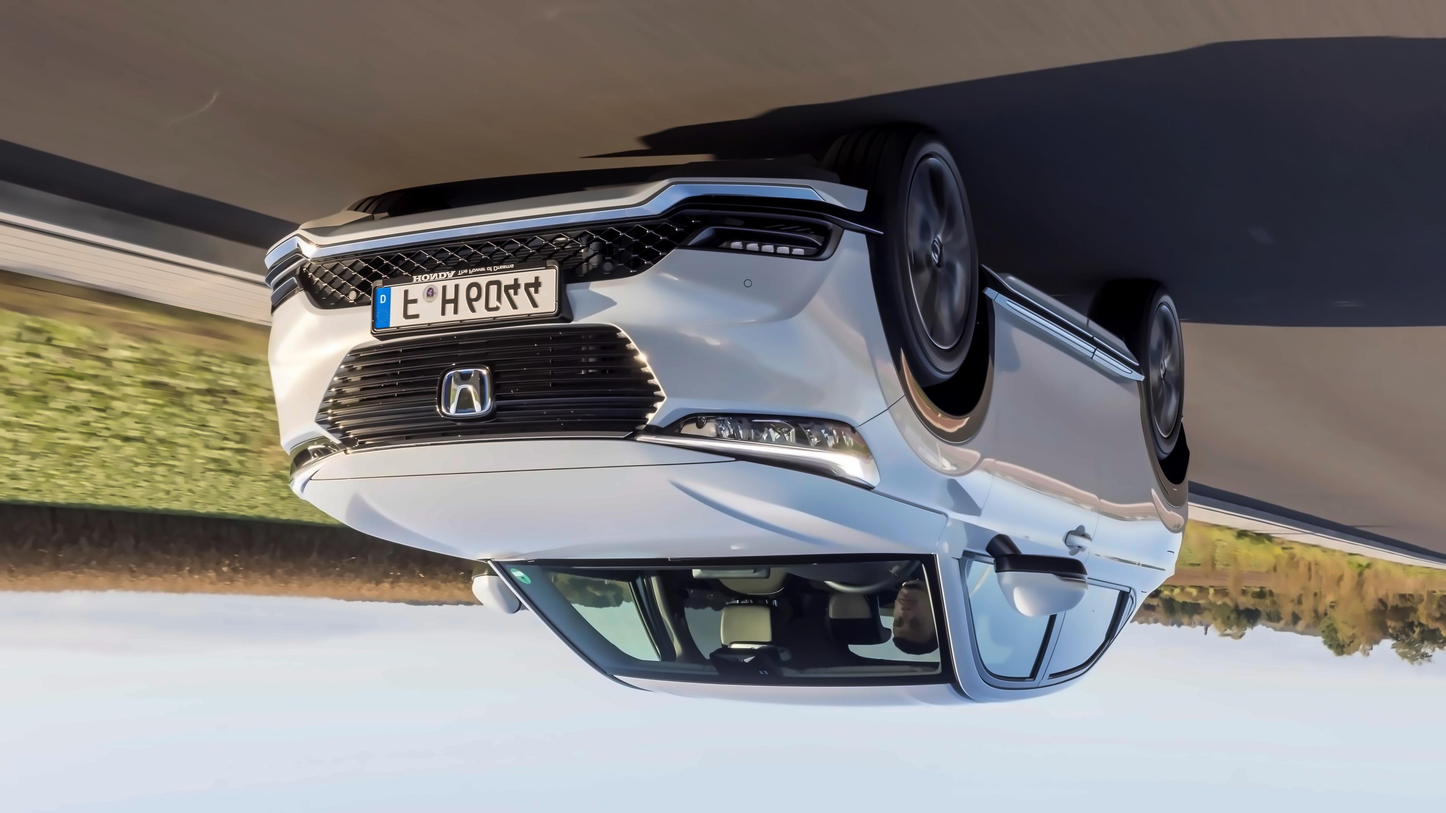Car hood: (280, 436, 954, 571)
Driver-s door - -F-R-: (957, 270, 1096, 706)
Fender - -F-R-: (856, 268, 1001, 571)
Fender - -R-R-: (1126, 352, 1181, 593)
Front bumper: (236, 163, 907, 428)
Headlight - -L-: (270, 425, 352, 489)
Headlight - -R-: (653, 400, 886, 493)
Passenger-s door - -R-R-: (1034, 327, 1152, 699)
Rear bumper: (1173, 430, 1209, 512)
Side bumper - -R-: (963, 247, 1147, 390)
Side mirror - -L-: (454, 566, 531, 625)
Side mirror - -R-: (987, 545, 1105, 630)
